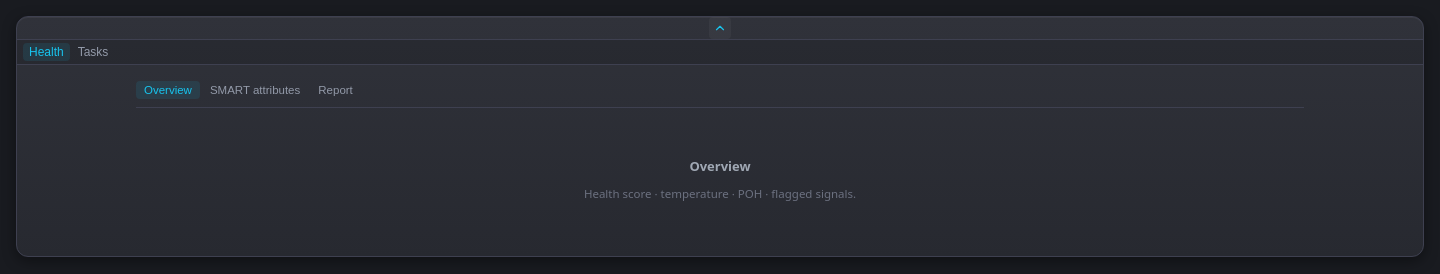
Test: WorkspacePanel › collapses the body when the toggle is clicked
Expected: the heading "Overview" is shown, [689, 156, 751, 177]
What coordinates should you click on to do the following:
click the button named "Collapse workspace panel"
I would click on:
 (720, 28)
Its box is [709, 17, 731, 39].
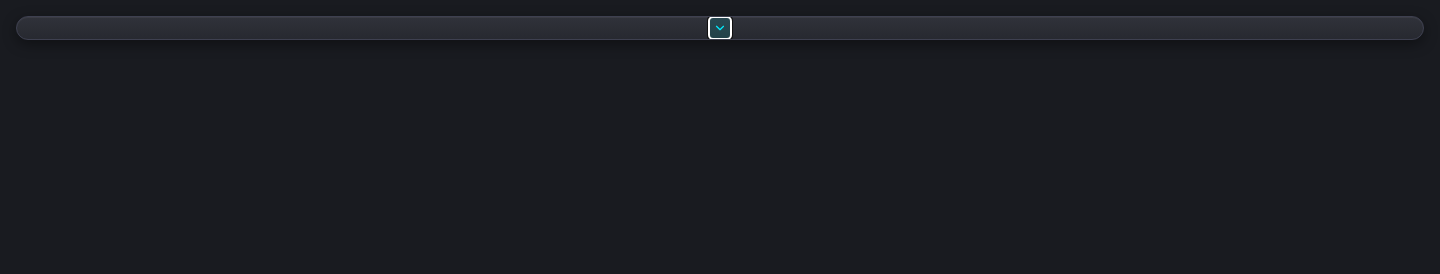
Result: the button "Overview" is gone
